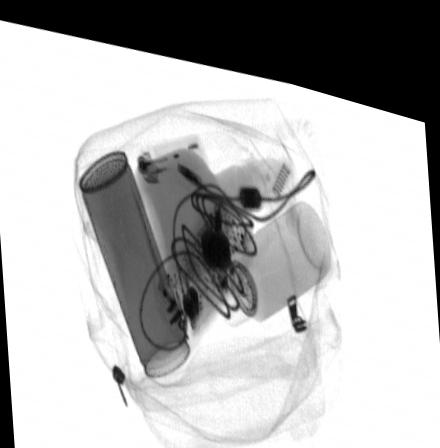Lighter: (130, 119, 210, 184)
Sprayer: (209, 183, 331, 314)
